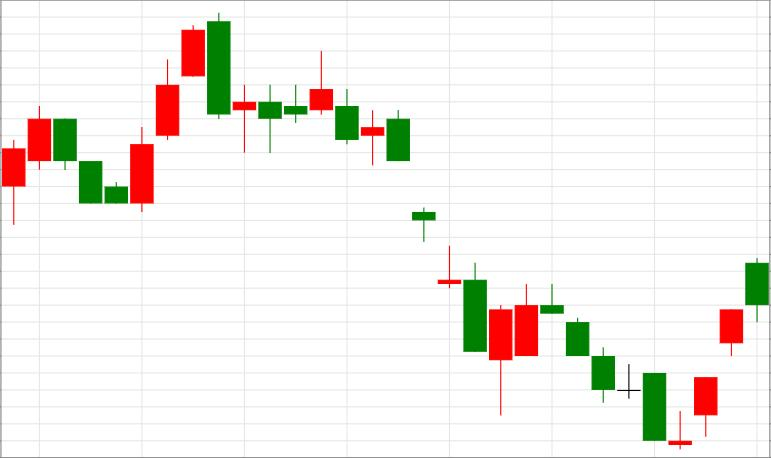bearish_engulfing_fall: (104, 12, 231, 211)
morning_star_rise: (387, 109, 718, 449)
